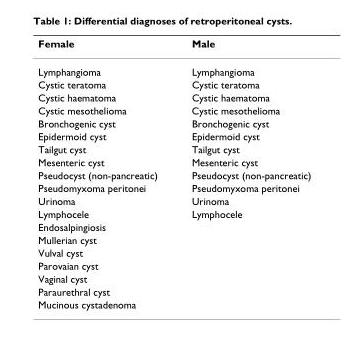table: (37, 36, 310, 309)
table column: (173, 36, 310, 309), (37, 36, 173, 309)
table column header: (37, 36, 310, 57)
table projected row header: (37, 219, 310, 232), (37, 232, 310, 245), (37, 245, 310, 258), (37, 258, 310, 271), (37, 271, 310, 284), (37, 284, 310, 297)
table row: (37, 36, 310, 57), (37, 57, 310, 77), (37, 77, 310, 90), (37, 90, 310, 103), (37, 103, 310, 116), (37, 116, 310, 129), (37, 129, 310, 142), (37, 142, 310, 155), (37, 155, 310, 168), (37, 168, 310, 181), (37, 181, 310, 194), (37, 206, 310, 219), (37, 219, 310, 232), (37, 232, 310, 245), (37, 245, 310, 258), (37, 258, 310, 271), (37, 271, 310, 284), (37, 284, 310, 297), (37, 194, 310, 206), (37, 297, 310, 309)
